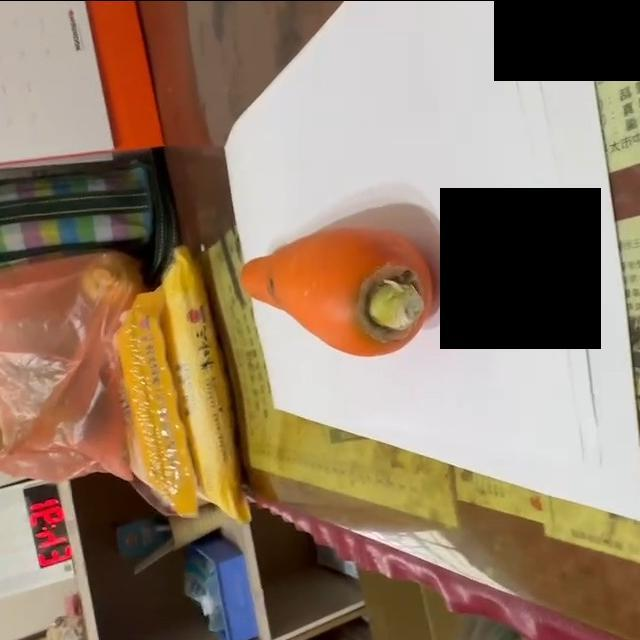carrot: (240, 223, 443, 363)
